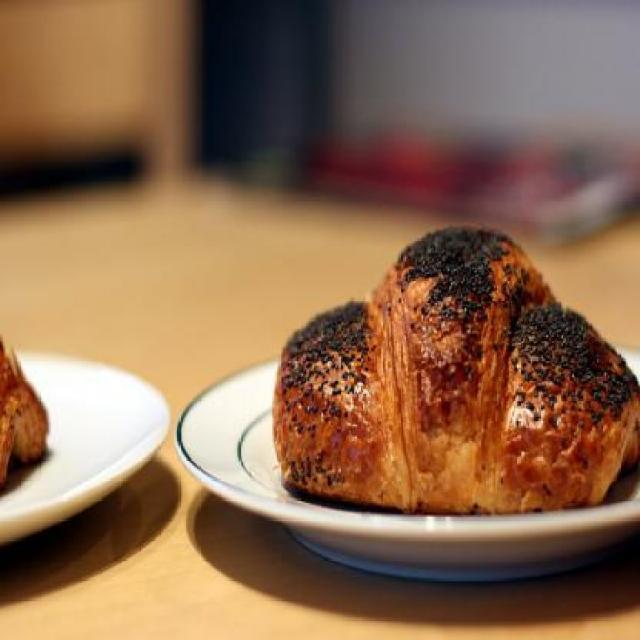Croissant: (270, 224, 639, 508)
